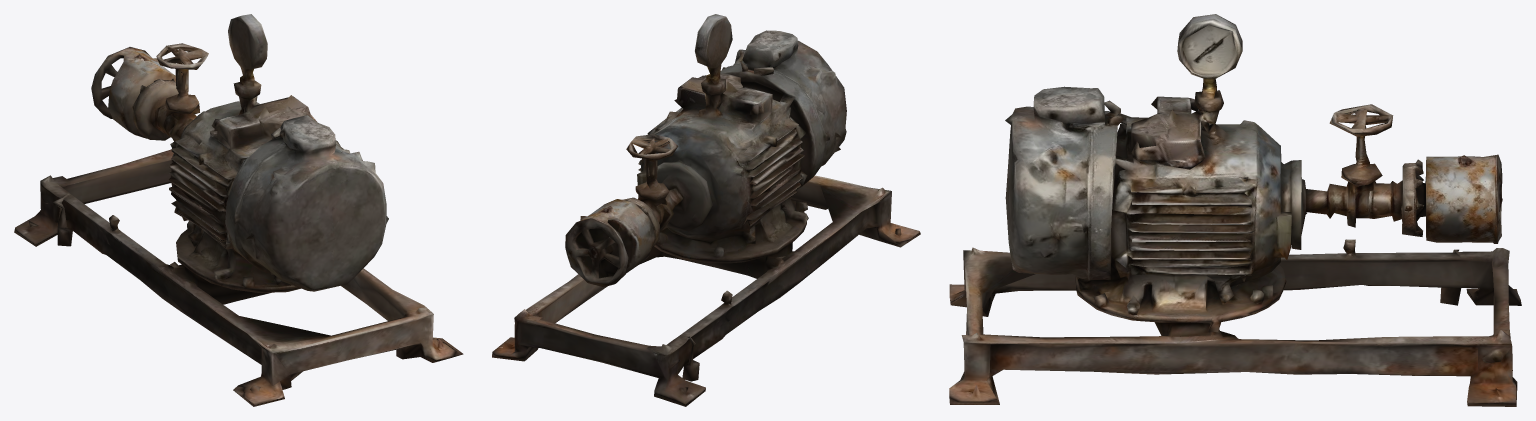
The model's file is pt_pump.glb.
3 views of the same model, side by side, from view 1: azimuth 30°, elevation 25°; view 2: azimuth 150°, elevation 25°; view 3: azimuth 270°, elevation 25° (orthographic). The views are drawn at different scales.
Visible parts, largest first — view 1: tripo_node_d1845609-4fe1-4551-a33e-08326592c62f; view 2: tripo_node_d1845609-4fe1-4551-a33e-08326592c62f; view 3: tripo_node_d1845609-4fe1-4551-a33e-08326592c62f.
Part boxes in pixels (bbox=[...]): tripo_node_d1845609-4fe1-4551-a33e-08326592c62f: bbox=[14, 14, 463, 406]; tripo_node_d1845609-4fe1-4551-a33e-08326592c62f: bbox=[492, 14, 920, 406]; tripo_node_d1845609-4fe1-4551-a33e-08326592c62f: bbox=[949, 14, 1521, 406].
Size of the model in its own units: 0.4948 by 0.6462 by 1.
Materials: 1 (1 with a texture image).
